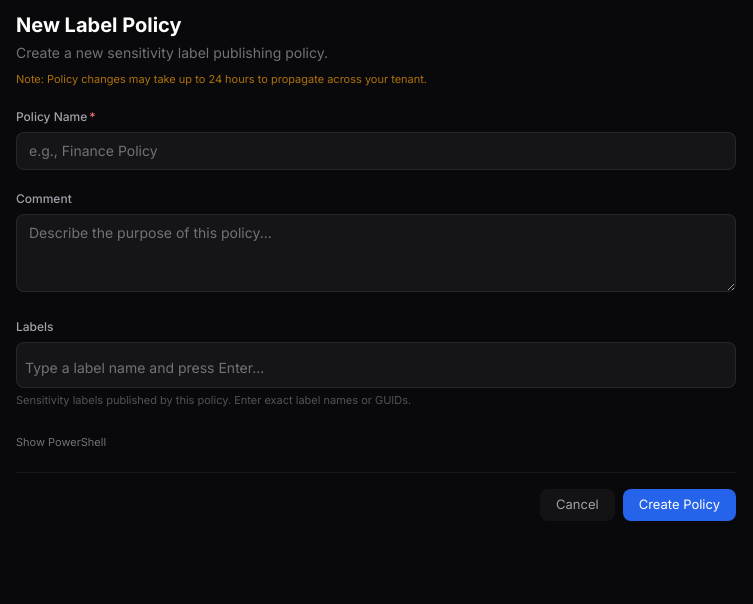
Test: PolicyForm › New Policy mode › shows default error when no error string
Step 1. Type "Test Policy" into the field with placeholder "e.g., Finance Policy" → x=376, y=150, box 16,132 -> 736,170
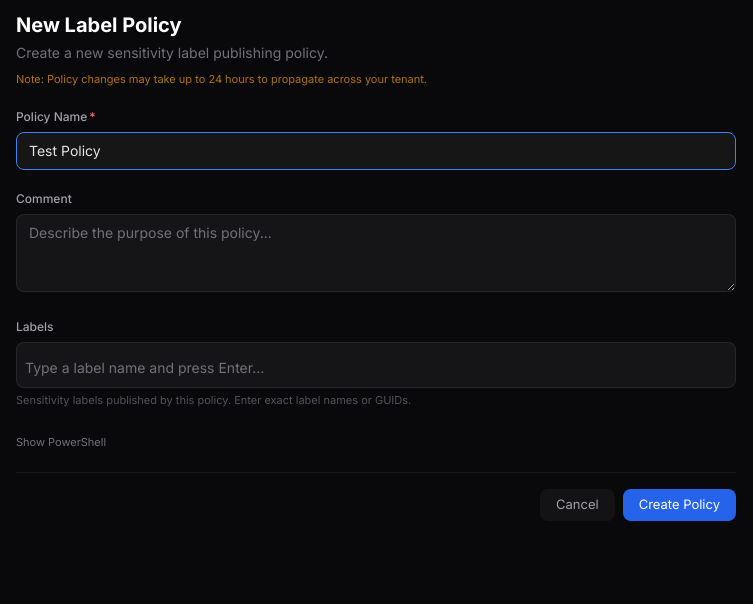
Step 2. Click the button "Create Policy" → x=679, y=505, box 623,489 -> 736,520
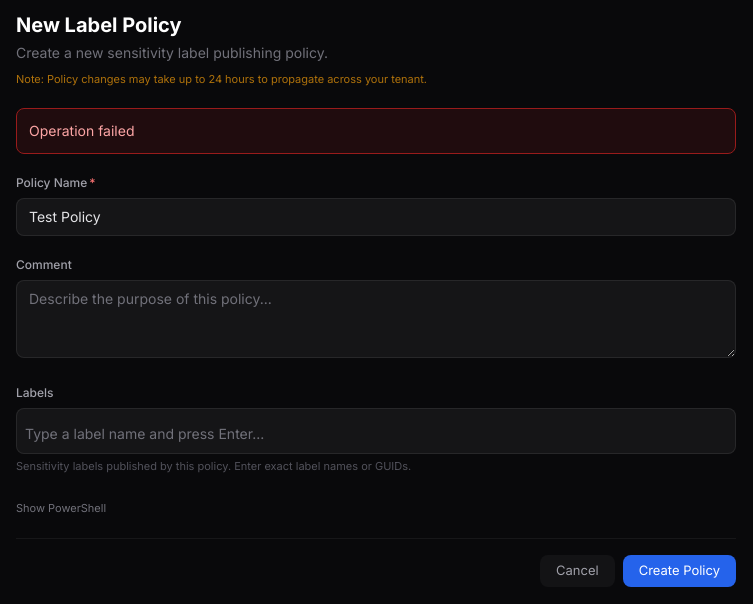
Expected: the text "Operation failed" is shown, 16,108 -> 736,154
